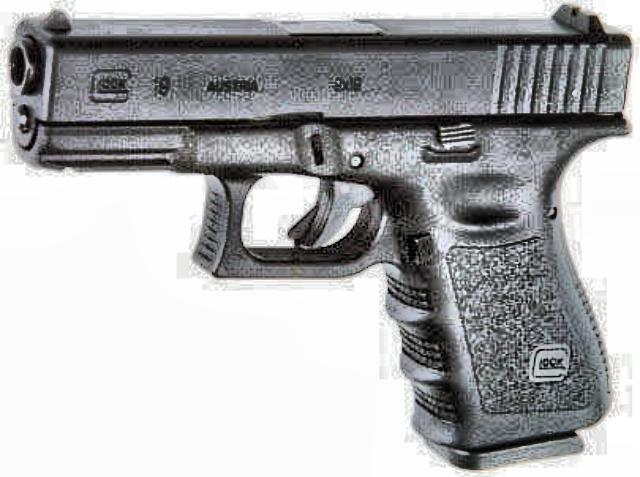pistol: (12, 2, 632, 466)
